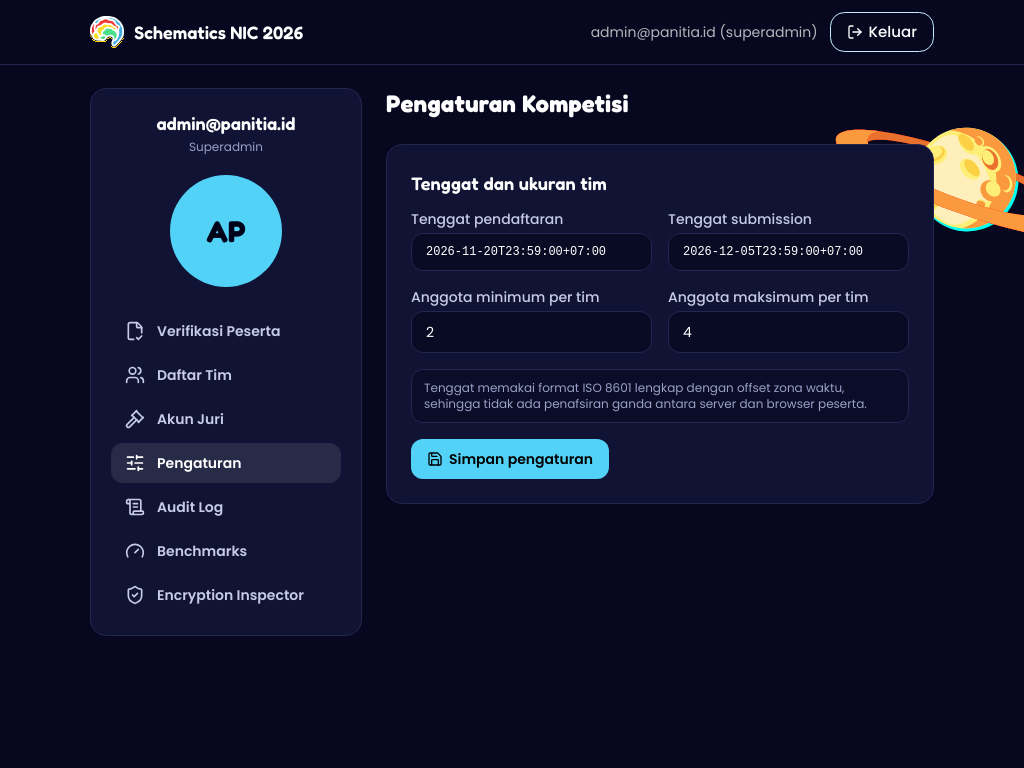
Scenario: Superadmin competition settings › saves new settings and confirms the update
Type "2026-11-25T23:59:00+07:00" into the field with test id "registration-deadline-input" at point(532, 252), box [411,233,652,271]
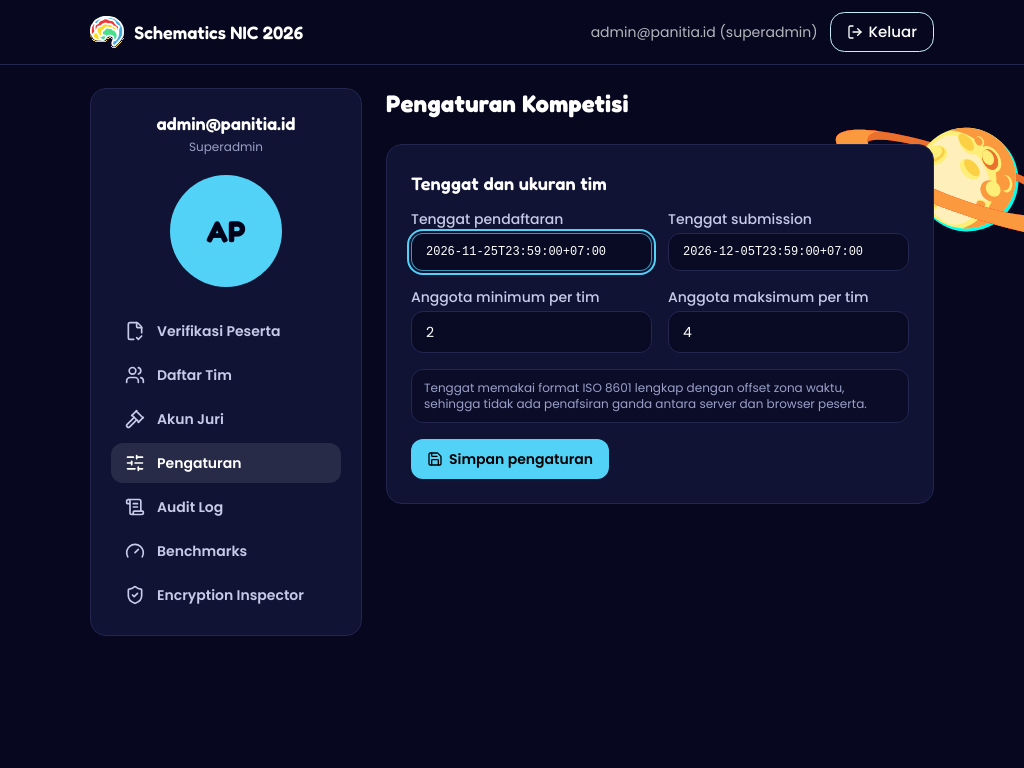
Replace the text in the number field with test id "min-team-size-input" with "3" at point(532, 332), box [411,311,652,353]
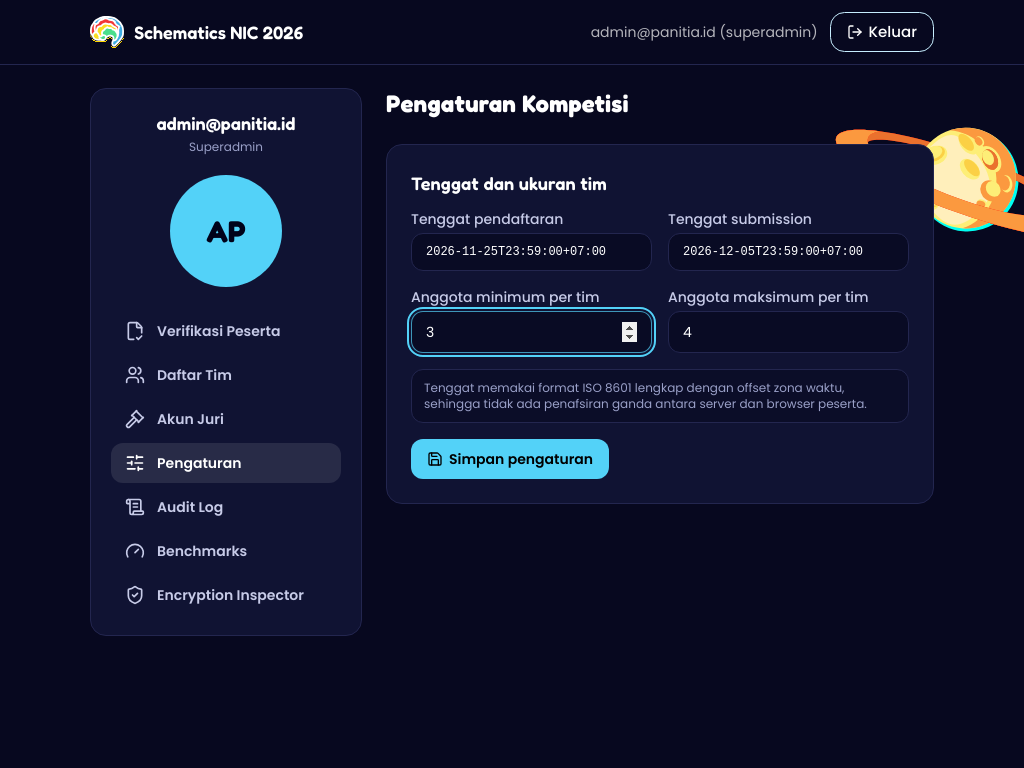
Click the button with test id "save-settings-btn" at point(510, 459), box [411,439,609,479]
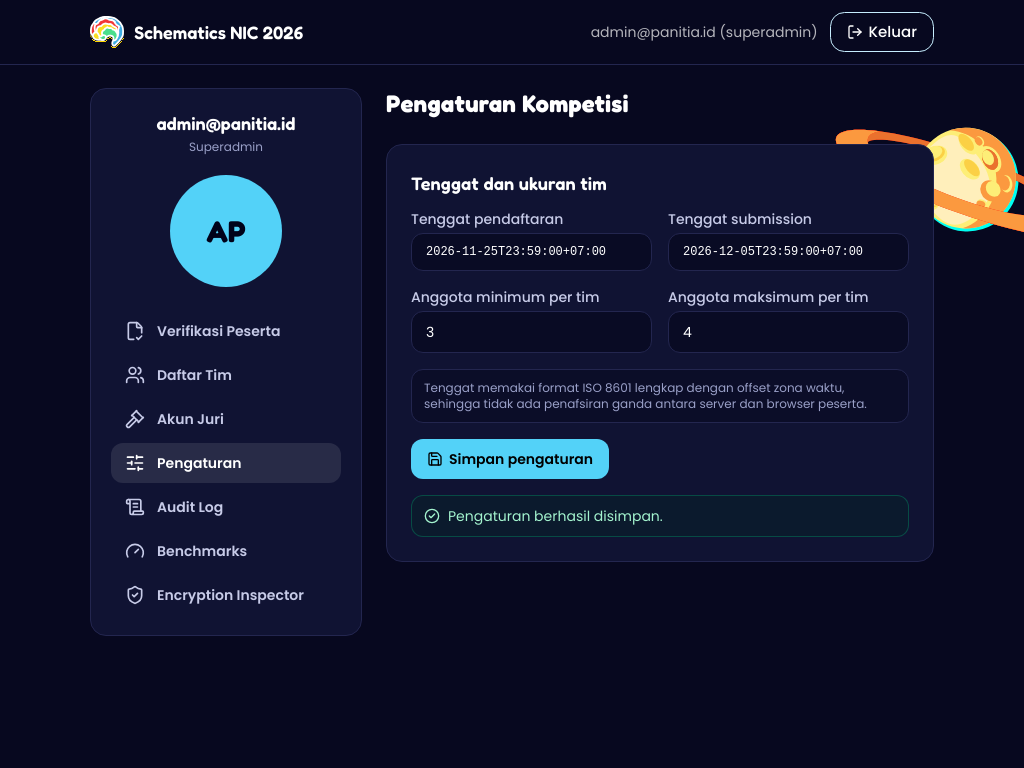
Check: the message "Pengaturan berhasil disimpan." is shown, box [411,495,909,537]
